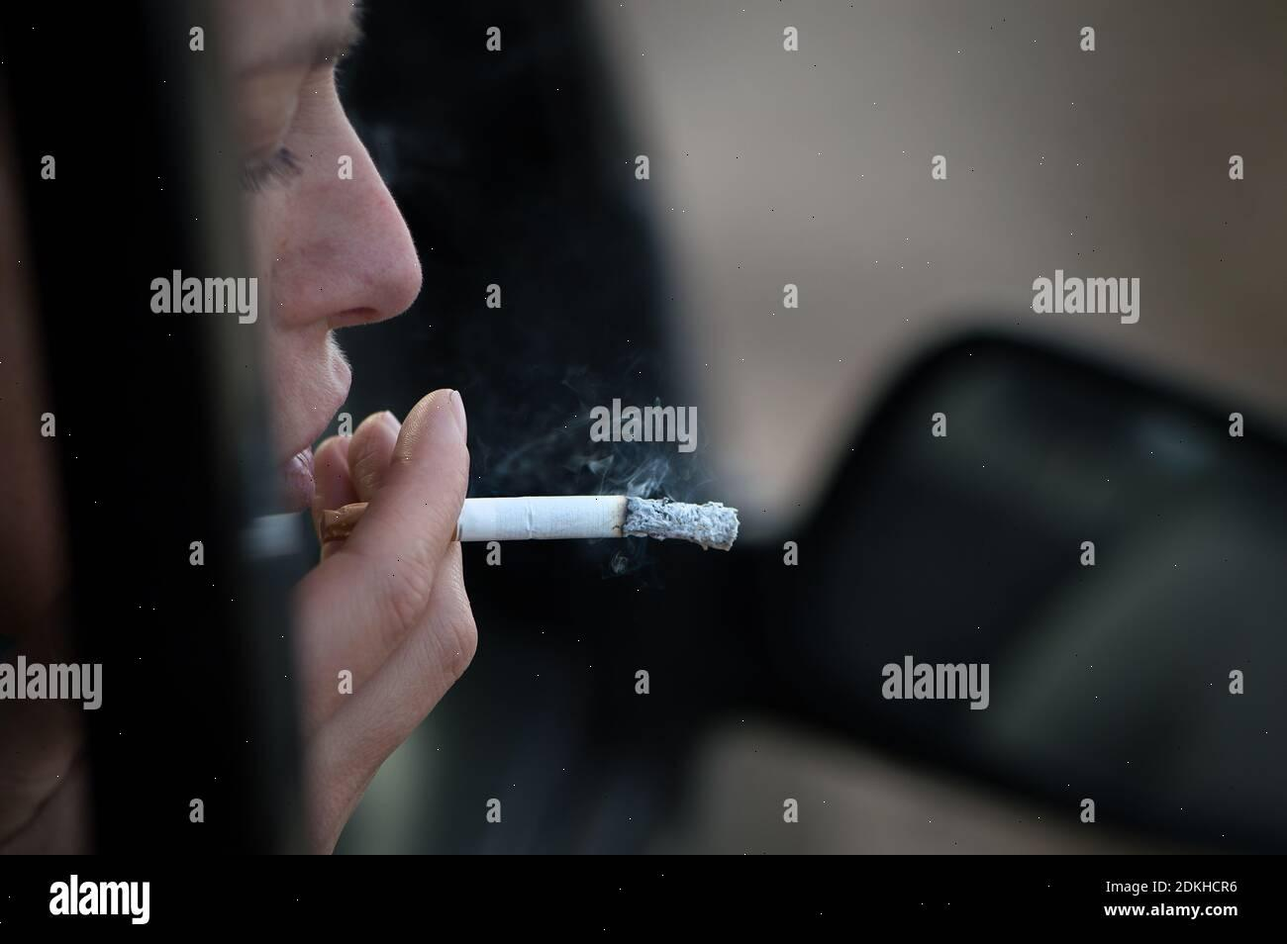cigarette: (455, 496, 738, 549)
